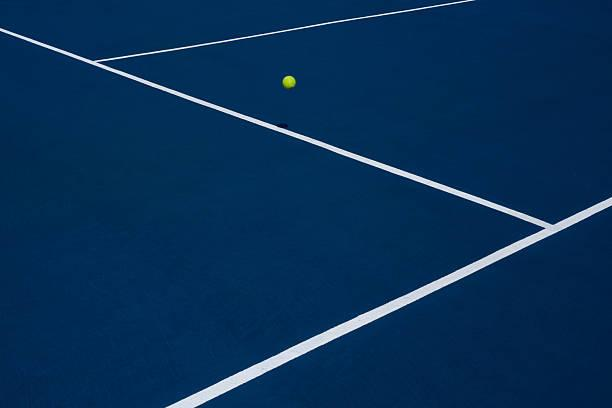ball_tennis: (283, 74, 295, 88)
